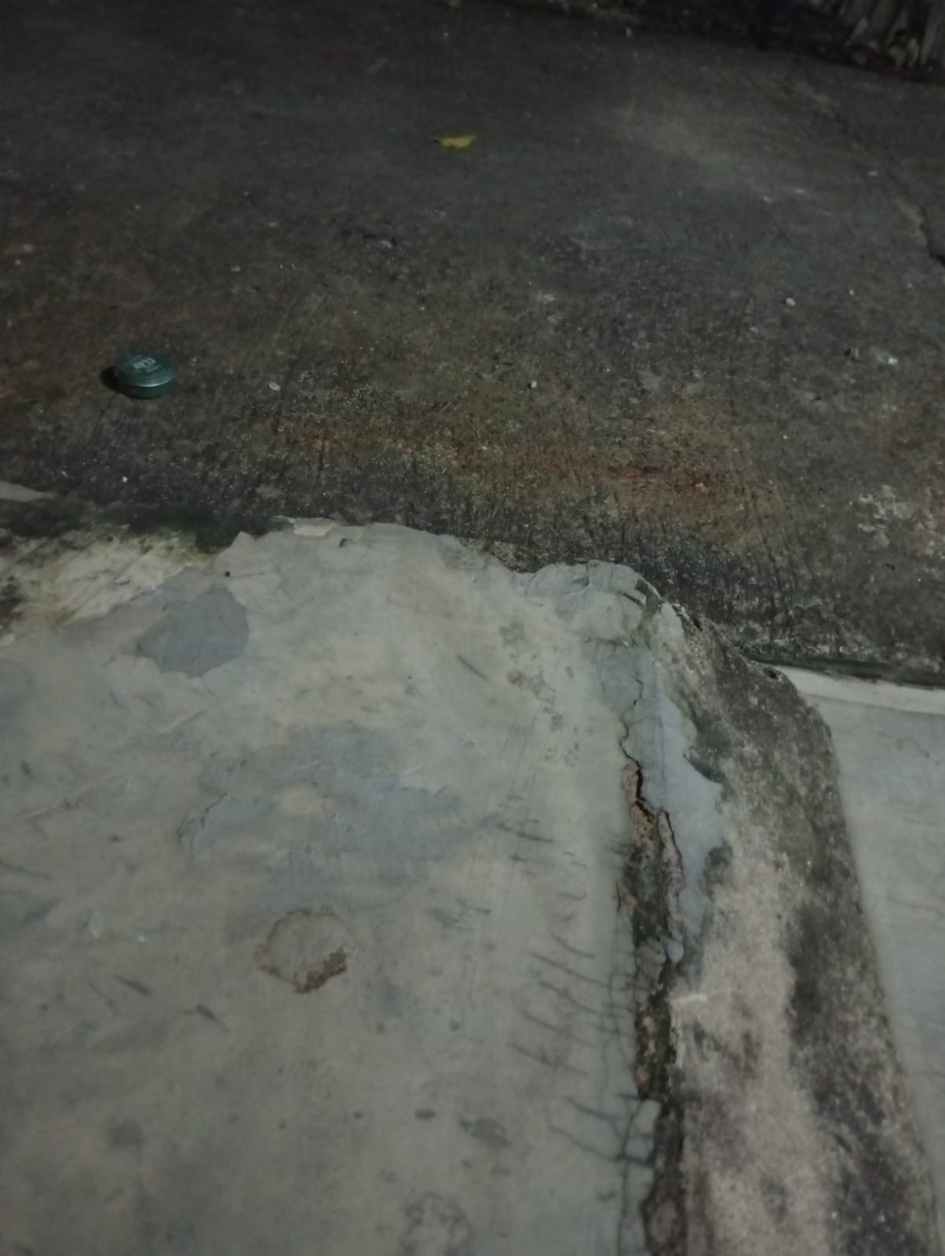Minyak_Rambut: (109, 340, 185, 426)
